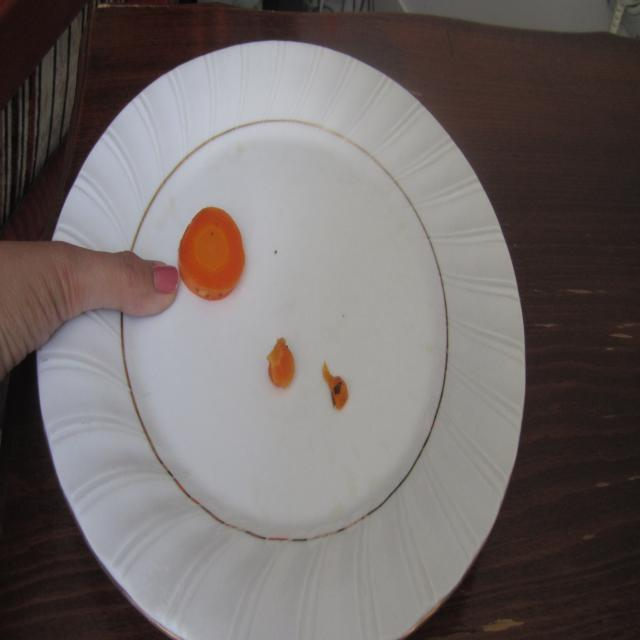Carrot: (176, 204, 250, 308)
Finger: (106, 245, 182, 327)
